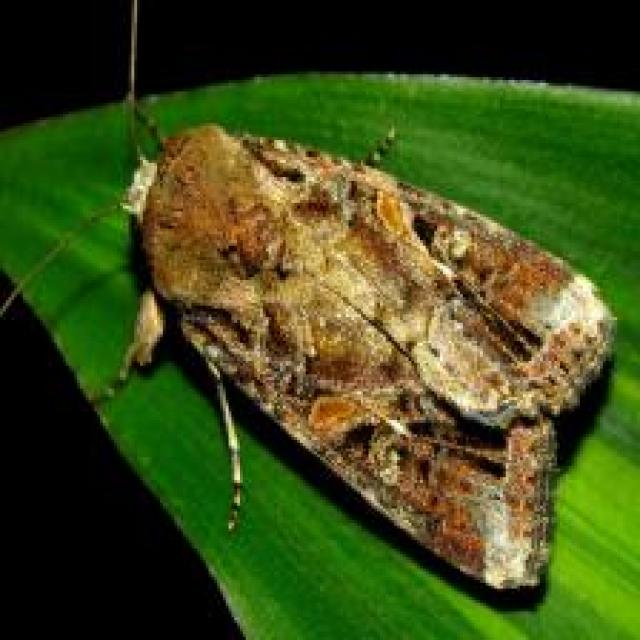Plaga: (91, 79, 620, 594)
